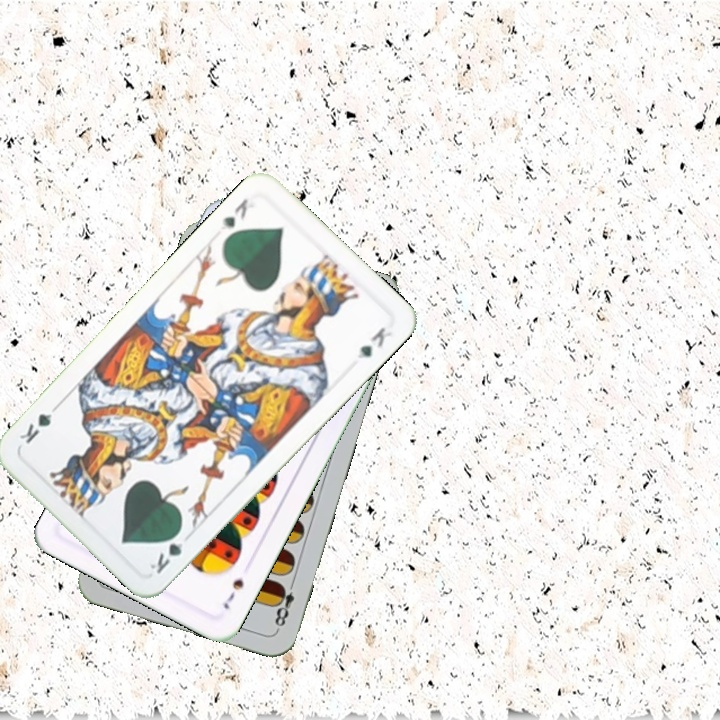E8: (269, 575, 298, 633)
GK: (146, 524, 193, 577), (216, 194, 251, 233)
S7: (219, 575, 247, 612)
